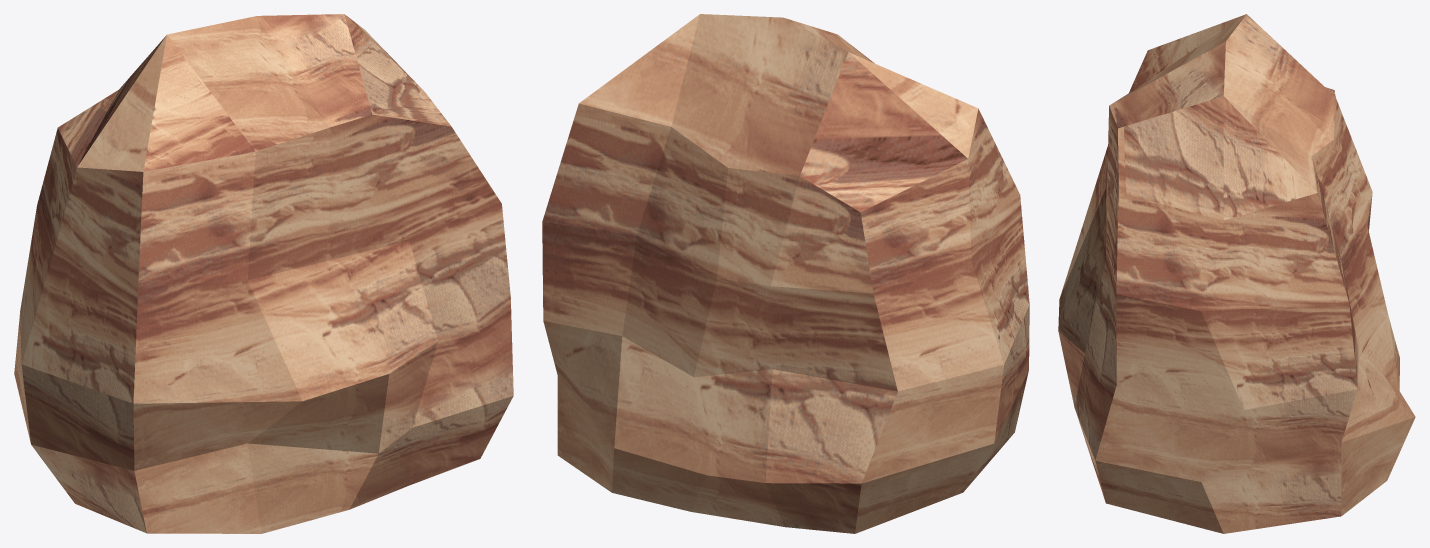
File: Desert_rock_02.fbx
3 views of the same model, side by side, from view 1: azimuth 30°, elevation 25°; view 2: azimuth 150°, elevation 25°; view 3: azimuth 270°, elevation 25° (orthographic). The views are drawn at different scales.
Parts seen in each view (by area): view 1: Desert_rock_02; view 2: Desert_rock_02; view 3: Desert_rock_02.
Boxes of the visible parts, x1,y1,x2,y2 form: Desert_rock_02: [14, 14, 513, 533]; Desert_rock_02: [542, 14, 1029, 533]; Desert_rock_02: [1058, 14, 1415, 533].
Bounding box in the file's own units: 1264 × 1183 × 940.
